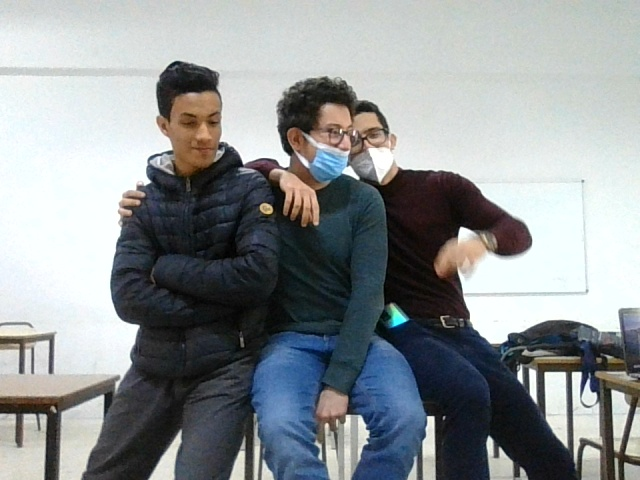mask_weared_incorrect: (270, 72, 352, 190), (351, 107, 412, 202)
without_mask: (154, 65, 233, 174)
